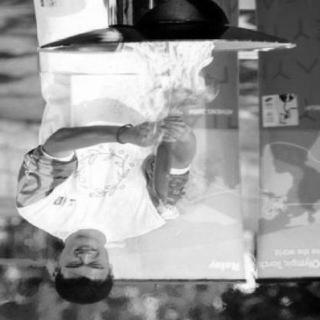Fire: (89, 35, 242, 168)
other: (256, 2, 320, 133)
